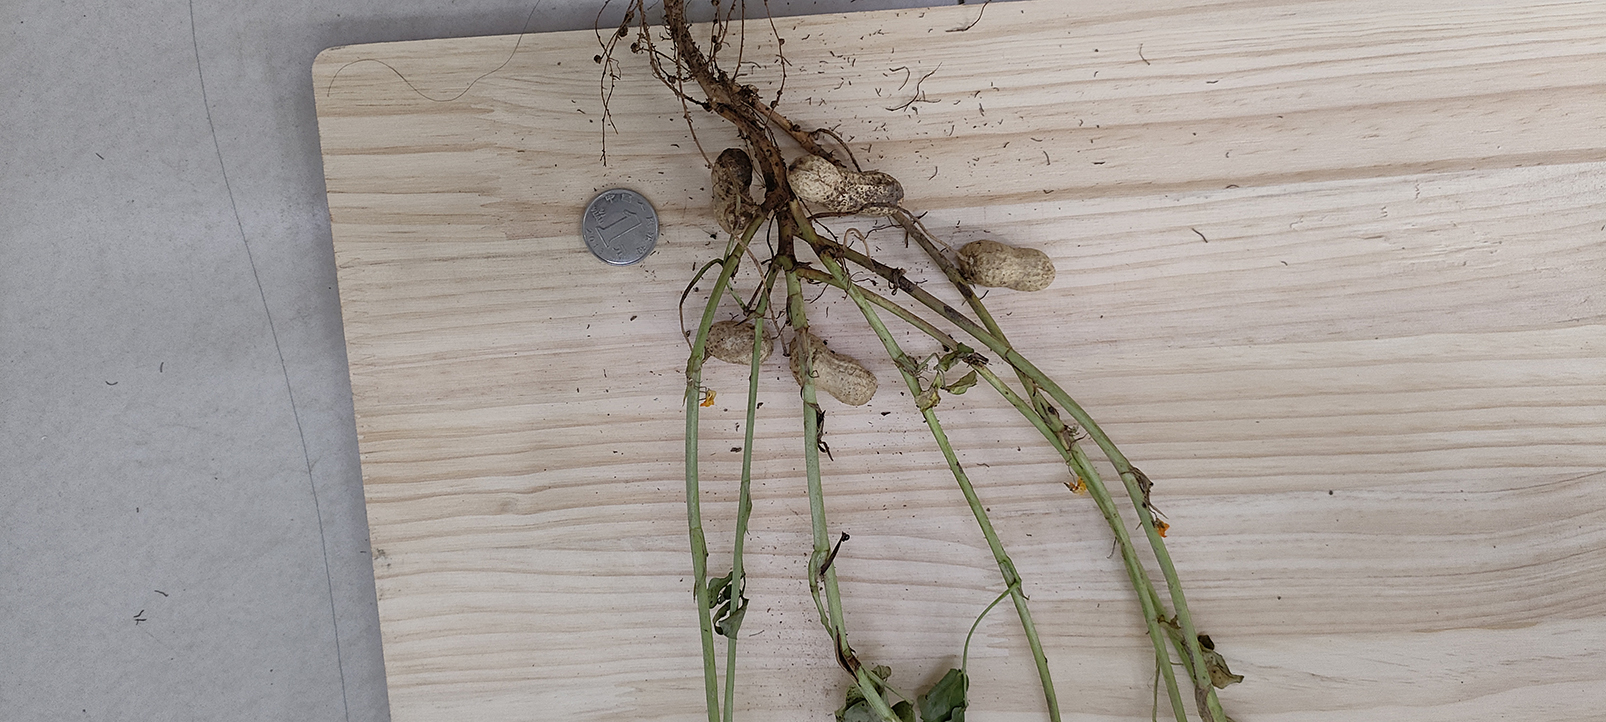h: (785, 155, 904, 215), (788, 335, 878, 407), (957, 239, 1057, 294)
l: (711, 148, 753, 233), (707, 322, 774, 365)
